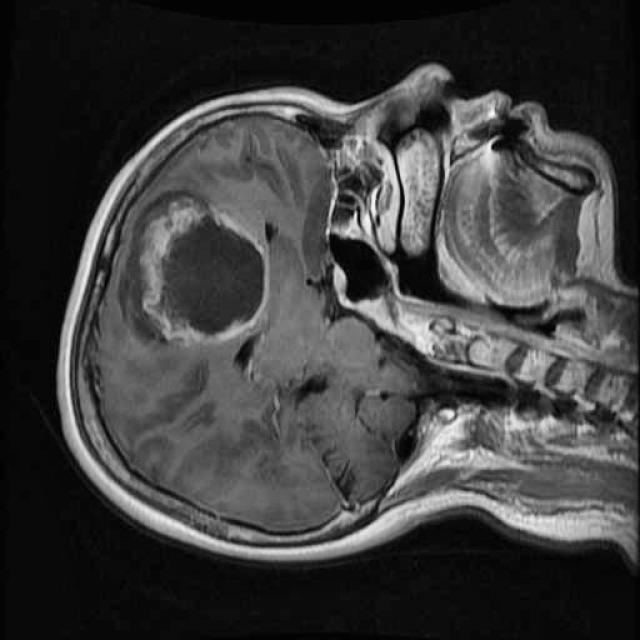Tumor: (113, 160, 288, 365)
